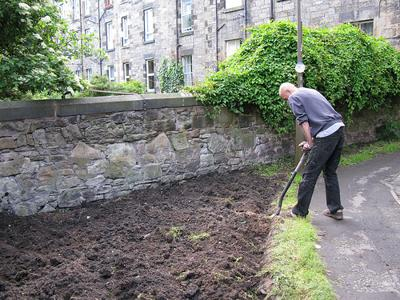person: (279, 82, 347, 224)
